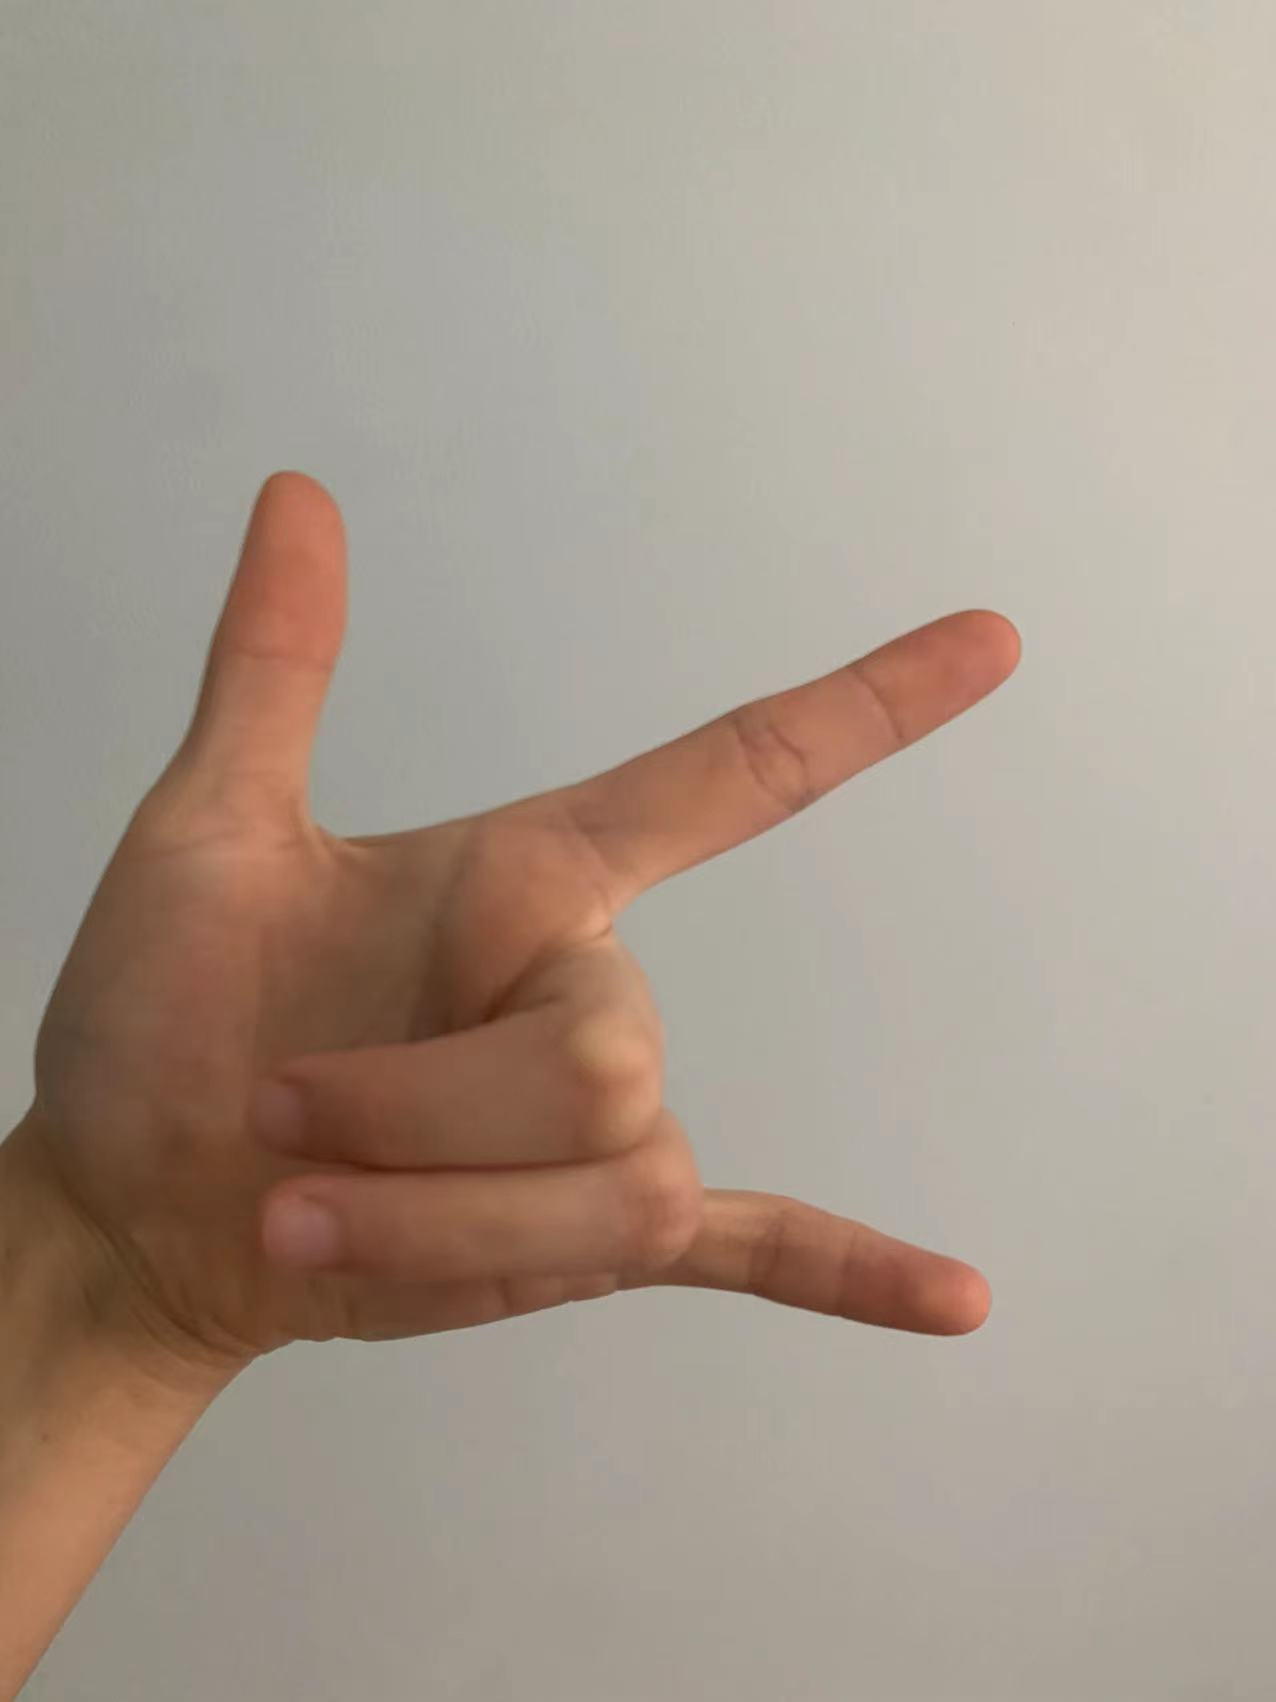back: (17, 465, 1111, 1313)
